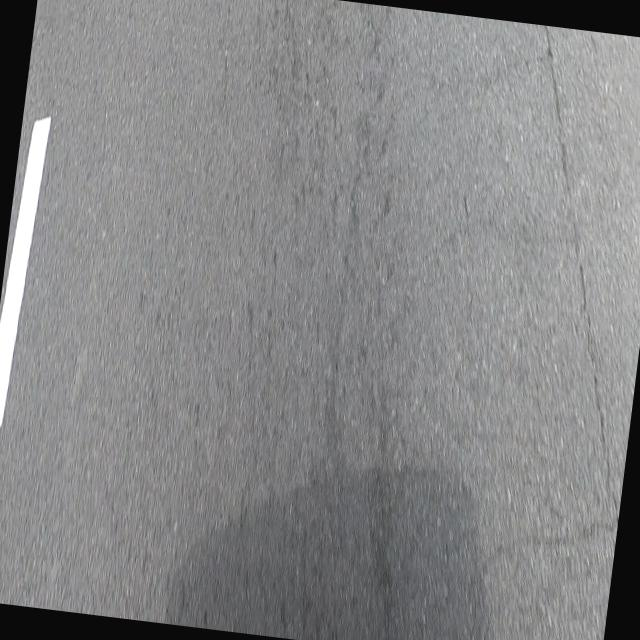Retak-Memanjang: (542, 26, 611, 490)
